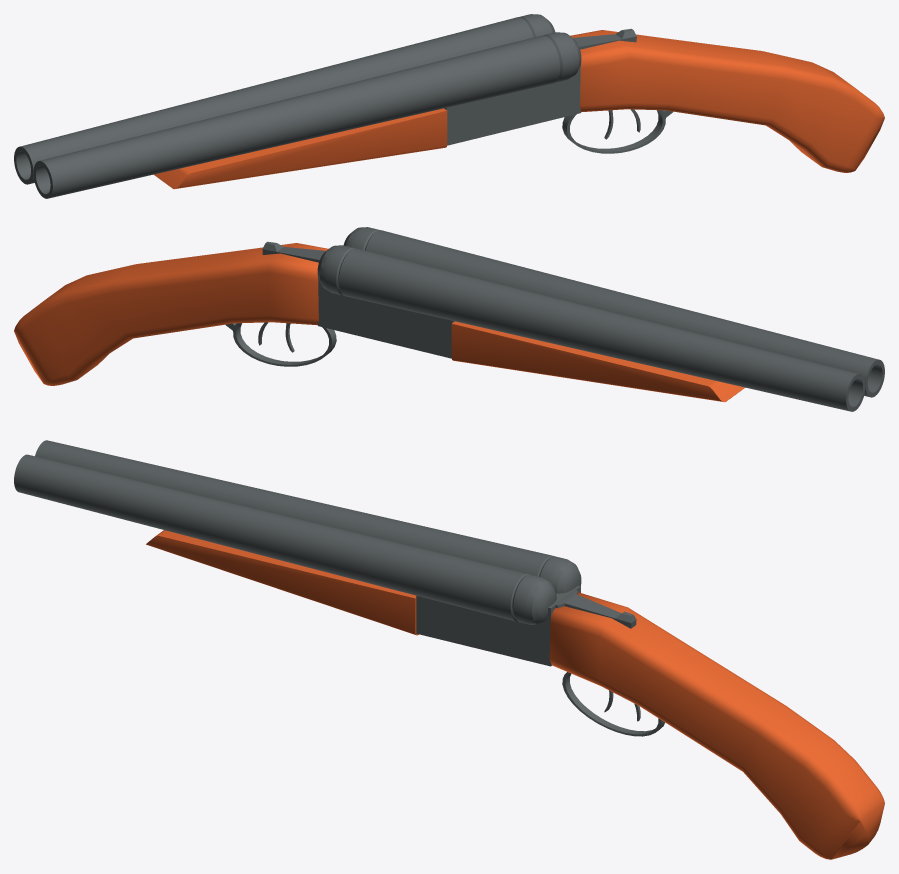
The model's file is sawed_off.glb.
The picture shows the model from 3 angles, top to bottom: view 1: azimuth 30°, elevation 25°; view 2: azimuth 150°, elevation 25°; view 3: azimuth 330°, elevation 25°; orthographic projection.
Parts seen in each view (by area): view 1: Cylinder, Cube, Cube.001, Cube.002, Circle, Cube.003; view 2: Cylinder, Cube, Cube.001, Cube.002, Circle, Cube.003; view 3: Cylinder, Cube, Cube.001, Cube.002, Cube.003, Circle.
Boxes of the visible parts, x1,y1,x2,y2 form: Cylinder: [14, 14, 581, 198]; Cube: [570, 30, 884, 172]; Cube.001: [154, 108, 447, 189]; Cube.002: [444, 64, 580, 145]; Circle: [562, 110, 673, 153]; Cube.003: [573, 28, 636, 49]; Cylinder: [317, 227, 884, 411]; Cube: [14, 243, 328, 385]; Cube.001: [451, 321, 744, 402]; Cube.002: [318, 277, 454, 358]; Circle: [225, 323, 336, 366]; Cube.003: [262, 241, 325, 262]; Cylinder: [14, 440, 581, 624]; Cube: [549, 592, 884, 859]; Cube.001: [146, 530, 418, 635]; Cube.002: [416, 585, 580, 666]; Cube.003: [555, 590, 636, 628]; Circle: [562, 672, 664, 736].
Size of the model in its own units: 5.63 by 1.35 by 0.575.
